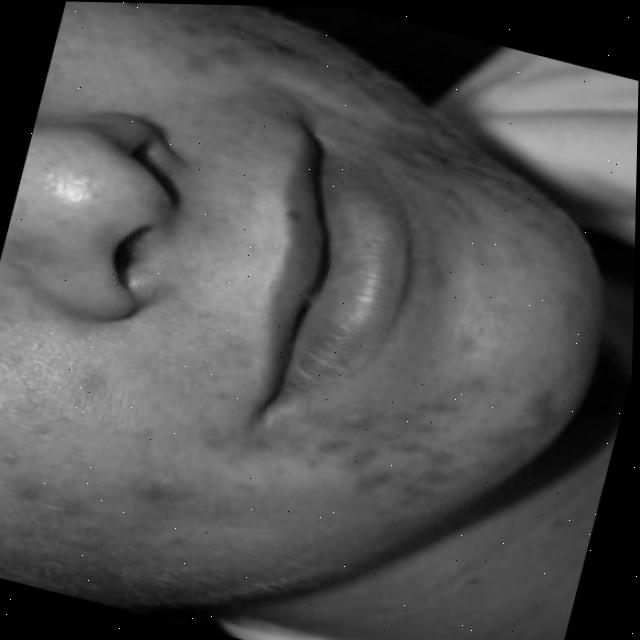Acne: (322, 259, 565, 526), (0, 344, 241, 559), (144, 3, 295, 123), (376, 123, 491, 201)
